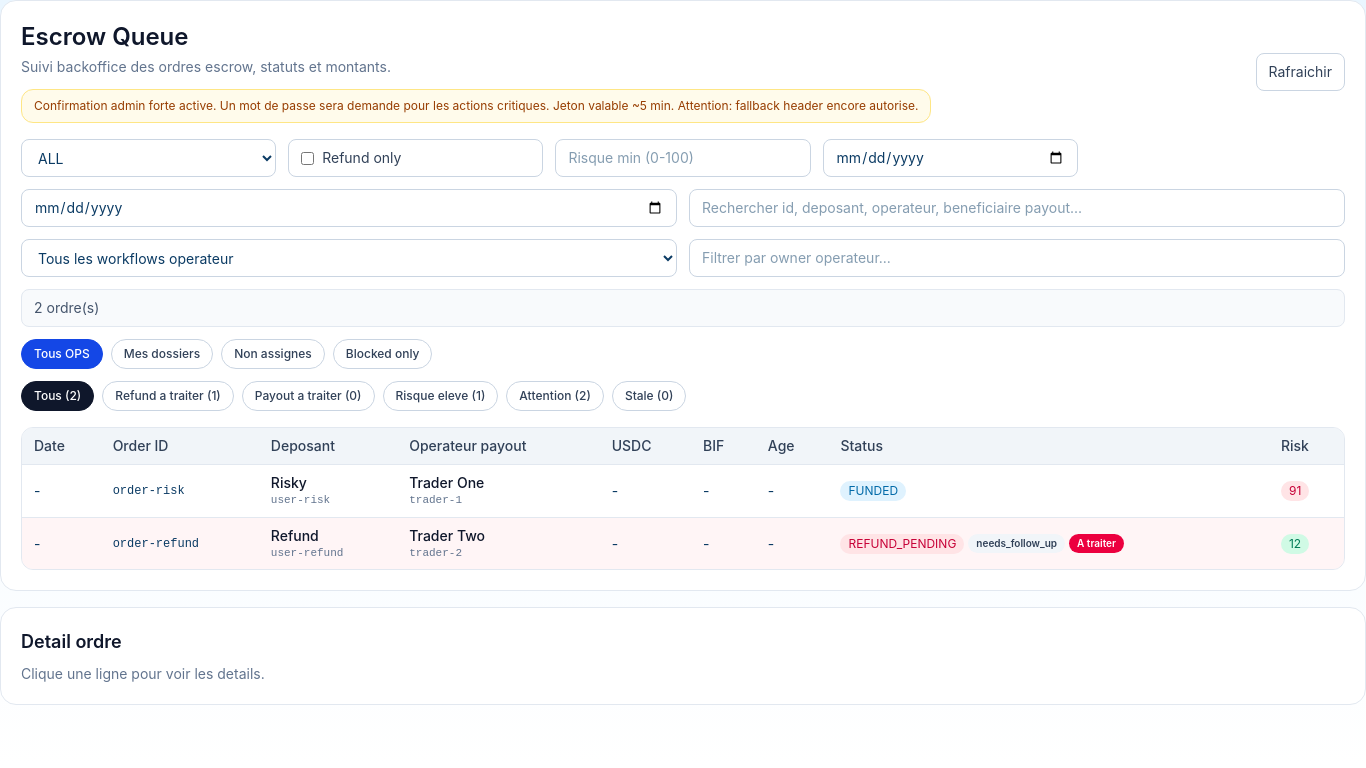
Test: EscrowQueue › filters orders by quick queue view
The image size is (1366, 768).
Expected: the text "order-risk" is shown, x1=101 y1=464 x2=259 y2=517
Expected: the text "order-refund" is shown, x1=101 y1=517 x2=259 y2=569
Click the button "Refund a traiter (1)" at (168, 396), box x1=102 y1=381 x2=234 y2=411
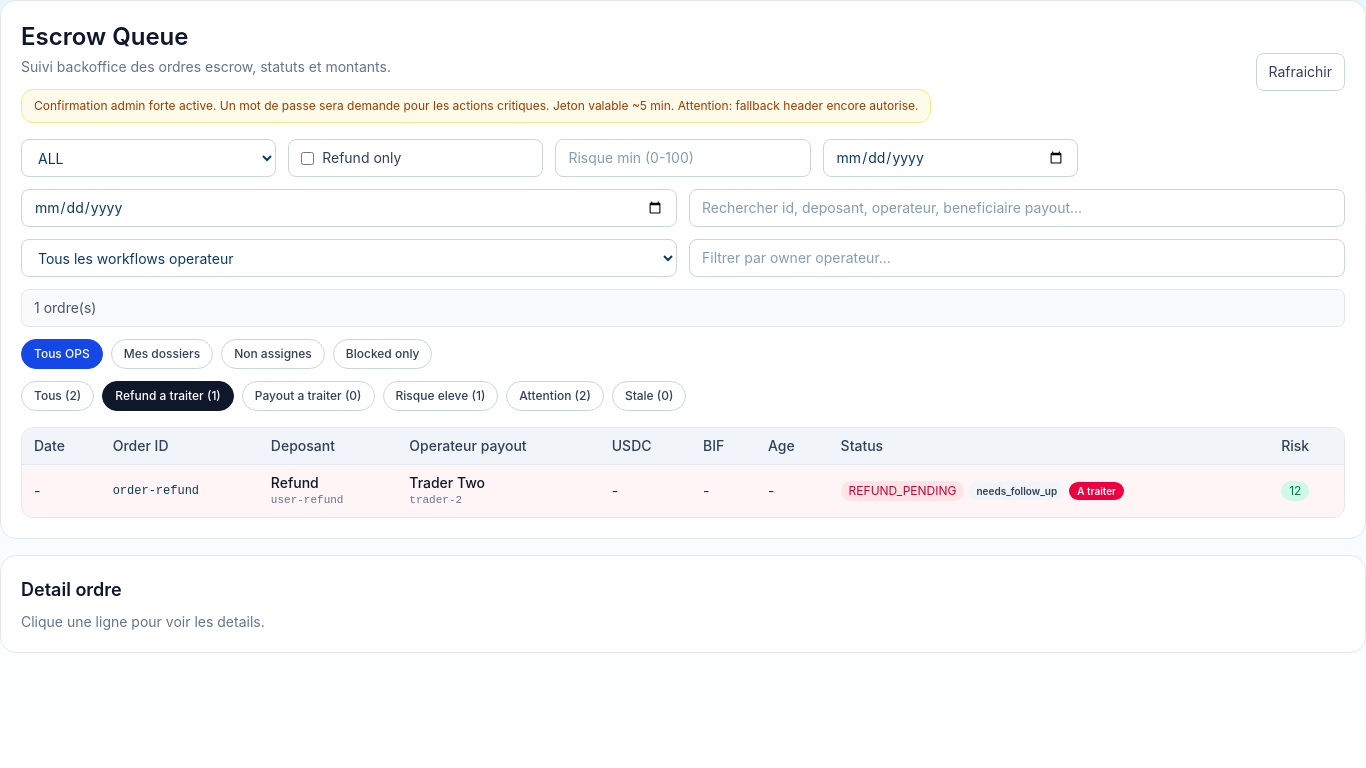
Expected: the text "order-refund" is shown, x1=101 y1=464 x2=259 y2=517
Expected: the text "order-risk" is gone
